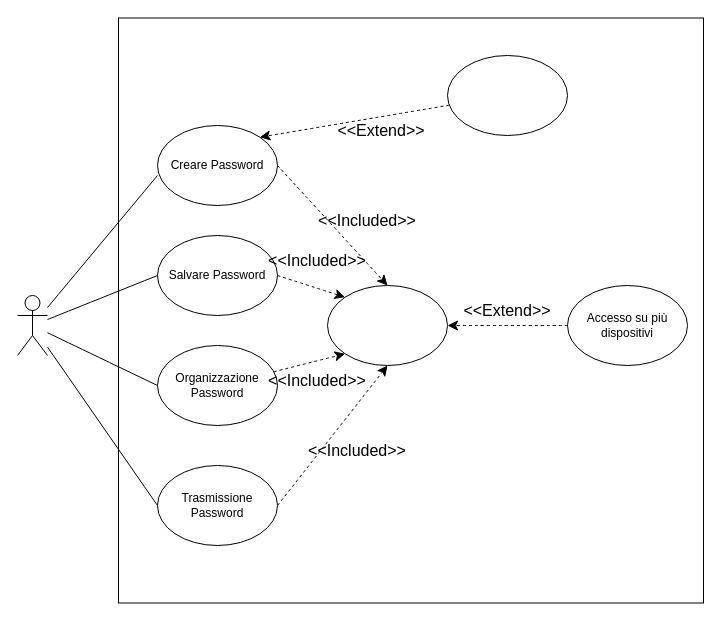
Some shapes in this 721 by 620 pixel diagram are drawn without their labels. Here are the shapes that lost their labels. From the top down, the centre of each, then its label:
point (507, 95): Generazione Password dal Software
point (32, 325): Actor
point (387, 325): Effettuare login
